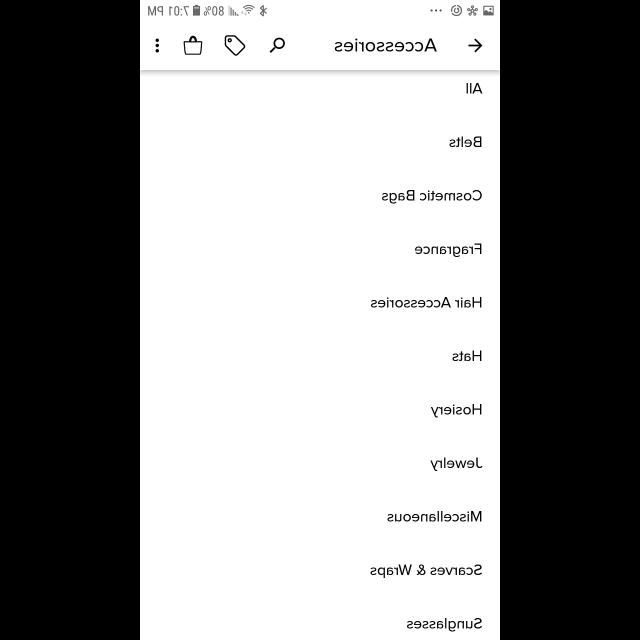icon: (224, 36, 246, 56), (184, 36, 202, 56), (269, 38, 285, 54), (468, 39, 482, 53), (155, 39, 159, 53)
text: (370, 564, 482, 578), (334, 39, 438, 53), (382, 190, 482, 204), (371, 296, 482, 308), (406, 618, 482, 632), (387, 511, 481, 522), (414, 243, 482, 257), (430, 457, 482, 471), (431, 404, 482, 418), (448, 136, 482, 148), (451, 351, 481, 362), (466, 84, 482, 95)
uppertaskbar: (140, 1, 500, 17)
